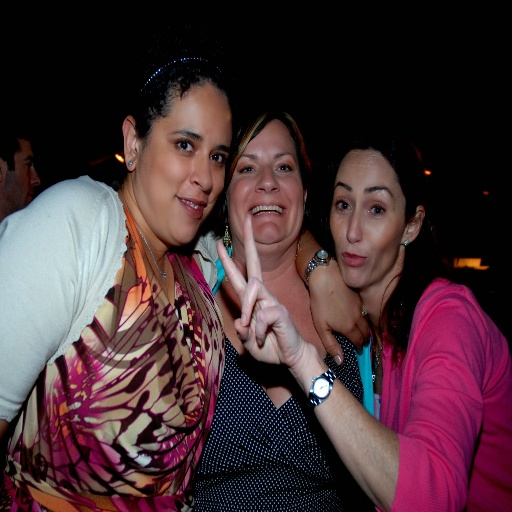hand: (215, 207, 306, 361), (308, 258, 372, 369)
